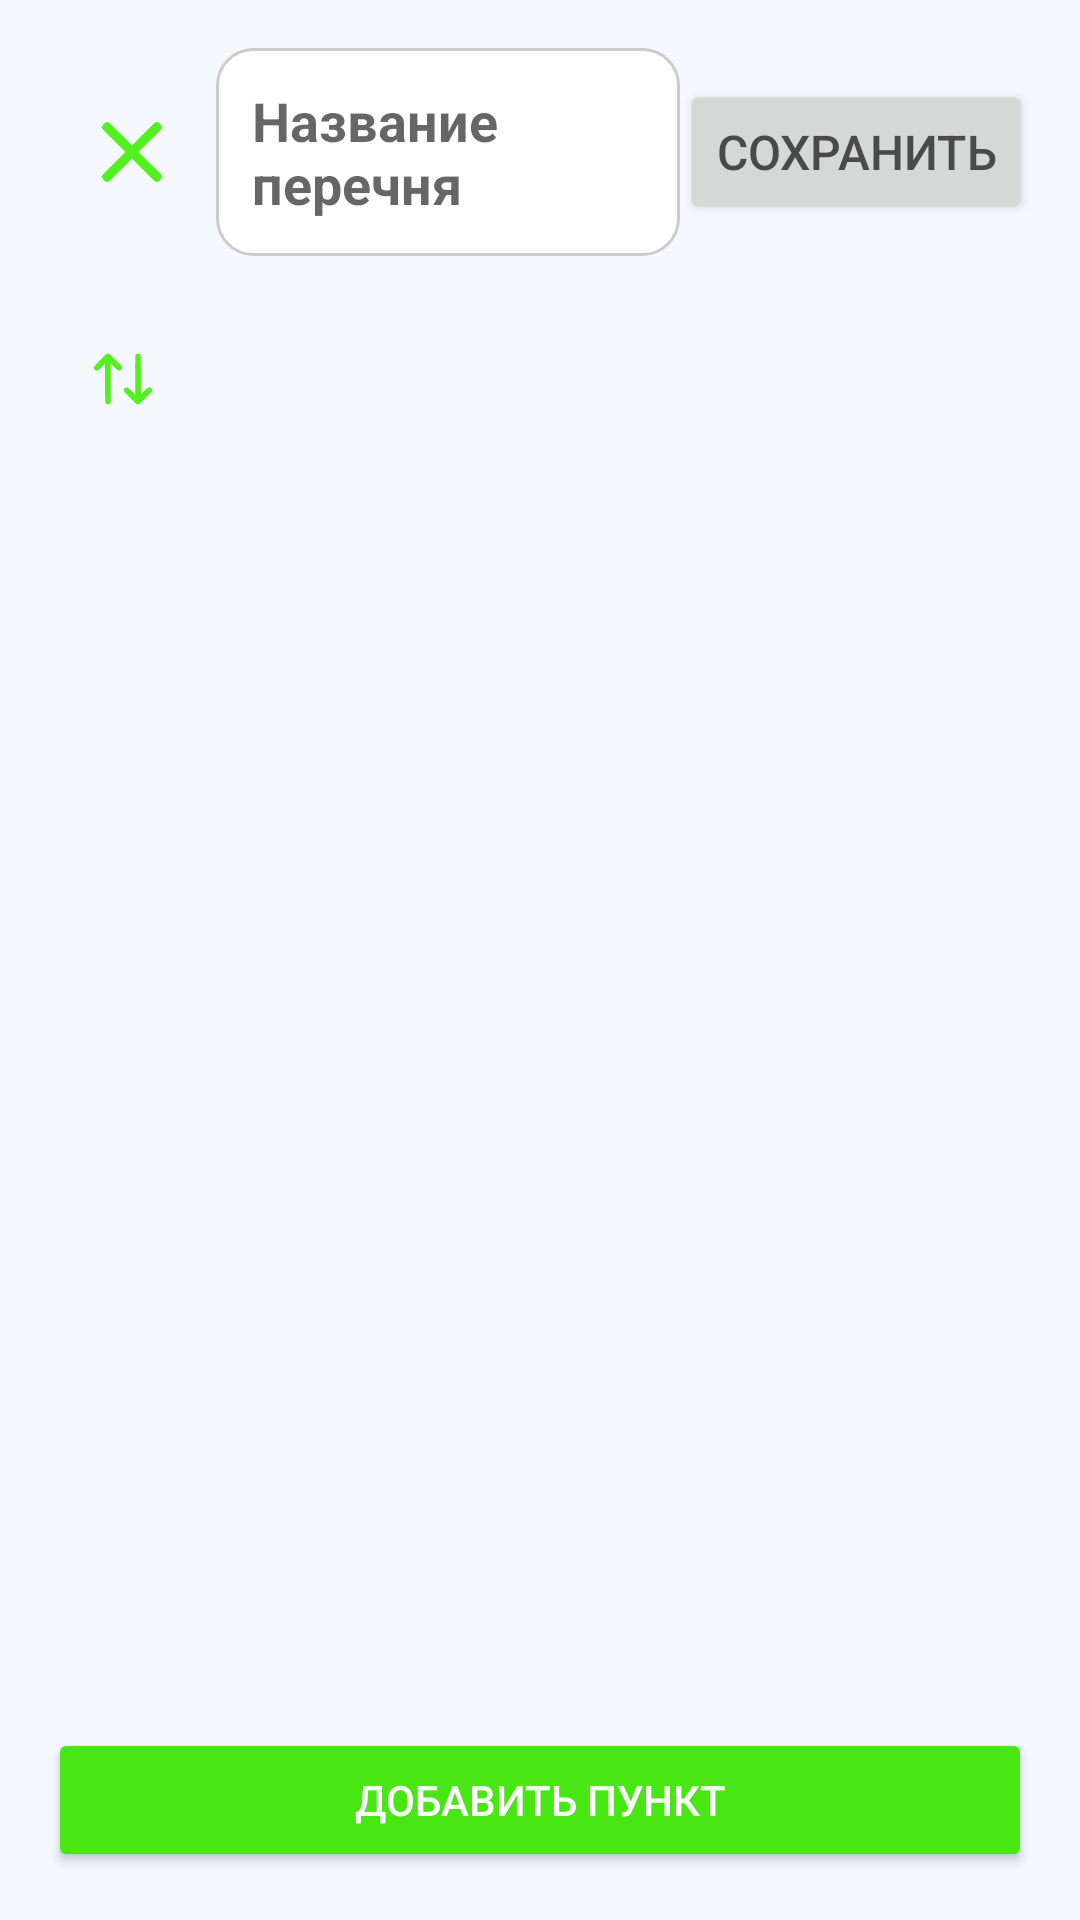

Where to tap for icons on this 1080x1920 app screen, as (x,y):
Сортировка: (123,379)
